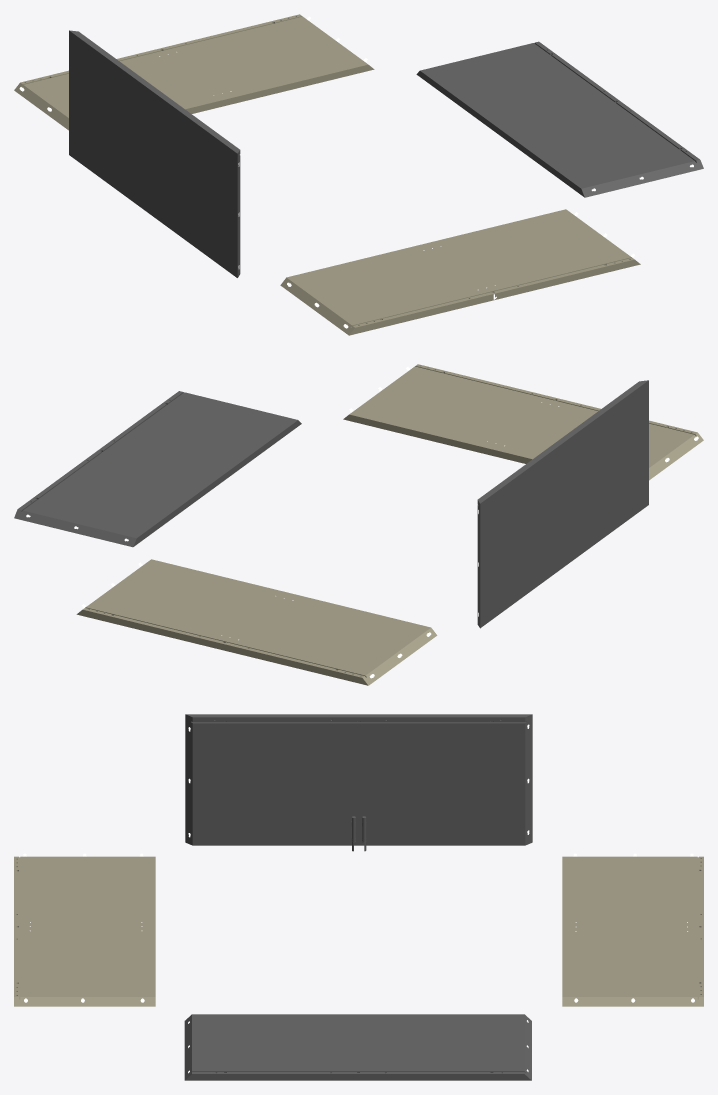
Rendered from Etapes_3.glb.
3 renders of one model, top to bottom at view 1: azimuth 30°, elevation 25°; view 2: azimuth 150°, elevation 25°; view 3: azimuth 270°, elevation 25°, orthographic. The views are drawn at different scales.
Visible parts, largest first — view 1: Cube.001, Cube.002, Cube, Cube.003; view 2: Cube.001, Cube.003, Cube, Cube.002; view 3: Cube.001, Cube, Cube.003, Cube.002.
Boxes of the visible parts, x1,y1,x2,y2 form: Cube.001: (69, 30, 240, 277); Cube.002: (280, 209, 640, 335); Cube: (416, 41, 703, 197); Cube.003: (14, 14, 374, 130); Cube.001: (477, 380, 648, 628); Cube.003: (76, 559, 437, 685); Cube: (14, 391, 301, 547); Cube.002: (343, 364, 703, 480); Cube.001: (185, 714, 532, 851); Cube: (184, 1014, 531, 1080); Cube.003: (562, 853, 703, 1006); Cube.002: (14, 853, 155, 1006).
Bounding box in the file's own units: 1.21 × 0.3195 × 1.51.
